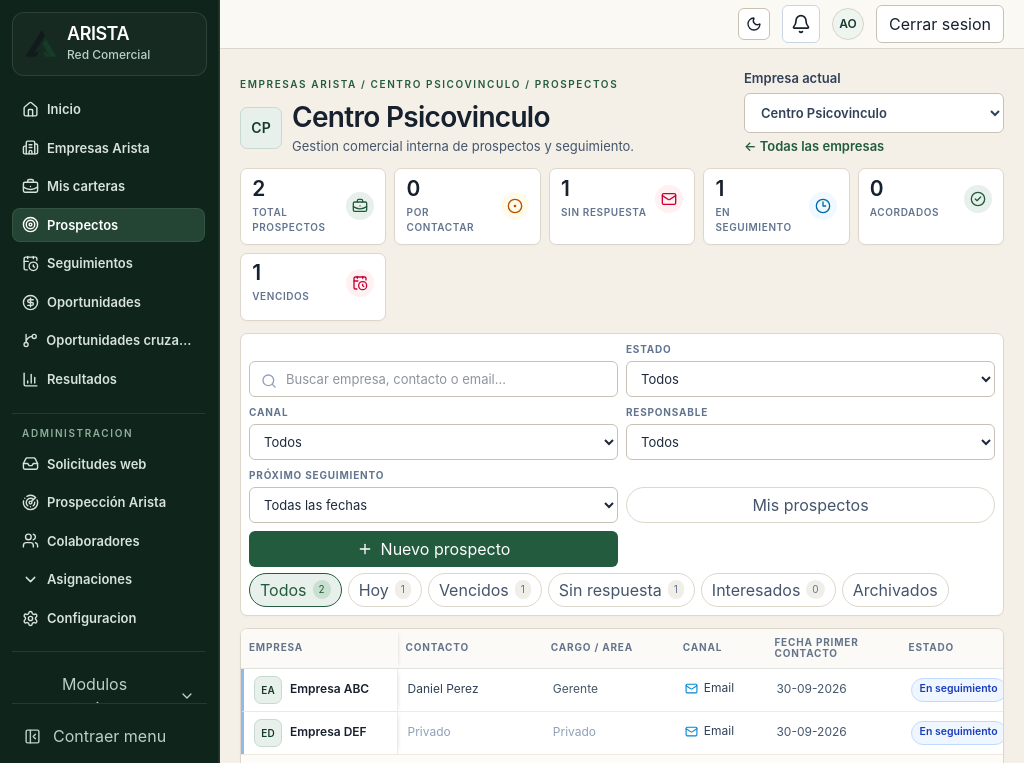
it: RedComercialProspectsPage › sidebar Prospectos vuelve al selector global
Expected: the dropdown labelled "Empresa actual" is shown, top-left (744, 92), bottom-right (1004, 132)
Click the link "Prospectos" at (108, 225), box top-left (12, 208), bottom-right (205, 242)
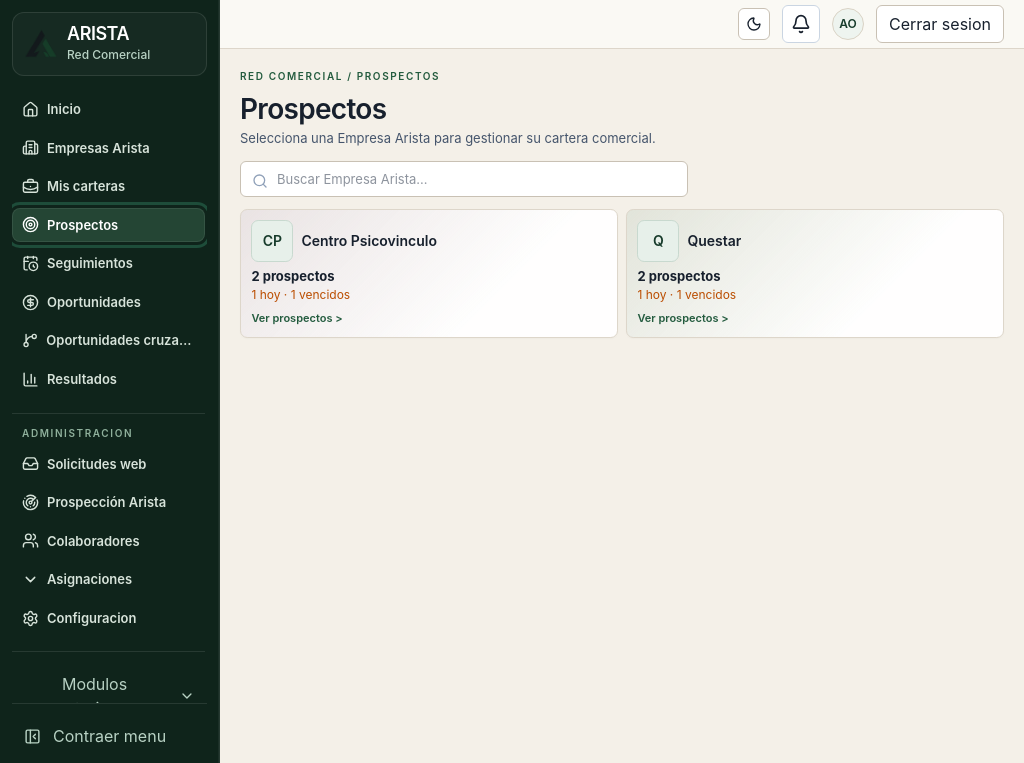
Expected: the text "Selecciona una Empresa Arista para gestionar su cartera comercial." is shown, top-left (240, 130), bottom-right (656, 146)
